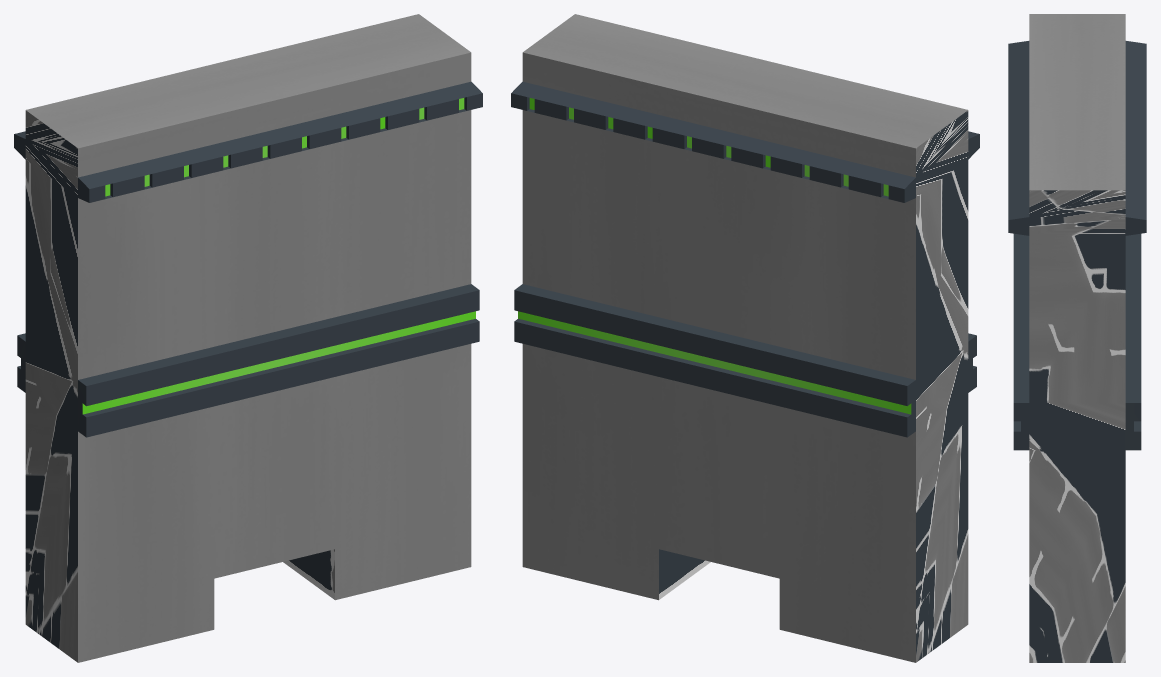
File: with hole.fbx
3 renders of one model, left to right at view 1: azimuth 30°, elevation 25°; view 2: azimuth 150°, elevation 25°; view 3: azimuth 270°, elevation 25°, orthographic. The views are drawn at different scales.
Parts seen in each view (by area): view 1: polySurface53; view 2: polySurface53; view 3: polySurface53.
Boxes of the visible parts, x1,y1,x2,y2 form: polySurface53: (14, 14, 482, 662); polySurface53: (511, 14, 979, 662); polySurface53: (1008, 14, 1146, 662).
Bounding box in the file's own units: 2.21 × 2.77 × 0.7336.
